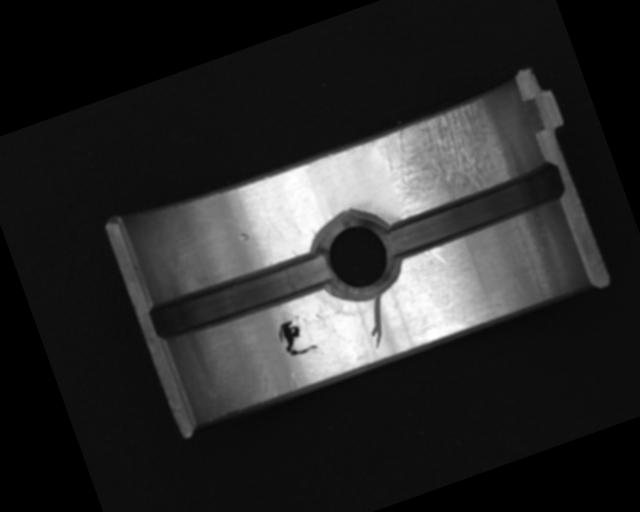blot: (272, 312, 320, 361)
bruise: (236, 230, 252, 245)
gap: (145, 239, 339, 349), (383, 160, 569, 261)
hole: (302, 201, 409, 310)
nick: (356, 292, 397, 351), (426, 244, 448, 269)
scratch: (371, 94, 522, 219)
